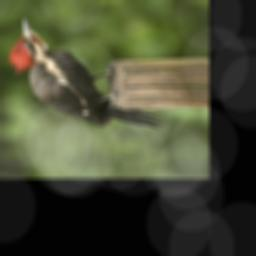Woodpecker: (0, 14, 173, 139)
